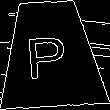P_N: (28, 28, 74, 81)
